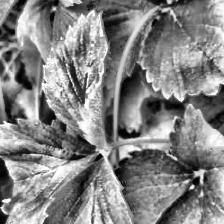Powdery Mildew Leaf: (40, 8, 110, 148)
